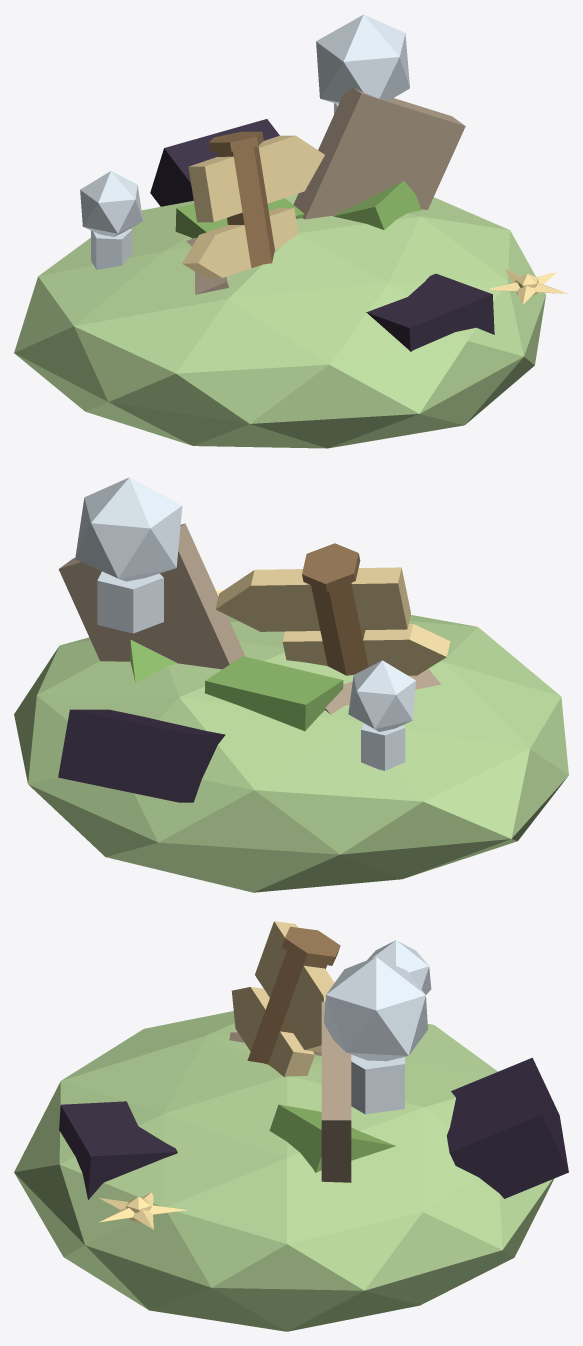
File: meadow-ruin.glb
3 renders of one model, top to bottom at view 1: azimuth 30°, elevation 25°; view 2: azimuth 150°, elevation 25°; view 3: azimuth 270°, elevation 25°, orthographic. The views are drawn at different scales.
Parts seen in each view (by area): view 1: meadow-ruin; view 2: meadow-ruin; view 3: meadow-ruin.
Boxes of the visible parts, box(x1,y1,x2,y2) form: meadow-ruin: box(14, 14, 568, 448); meadow-ruin: box(14, 477, 568, 892); meadow-ruin: box(14, 921, 568, 1331).
Size of the model in its own units: 1.18 by 0.7194 by 1.12.
